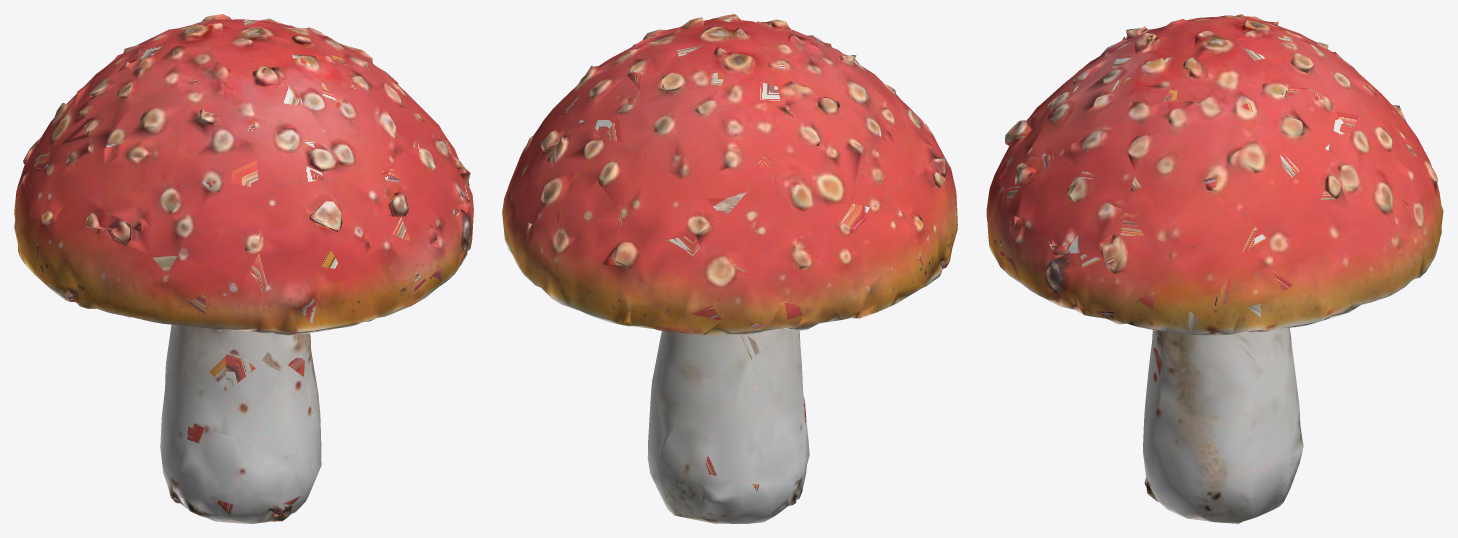
The model's file is mushroom.glb.
The picture shows the model from 3 angles, left to right: view 1: azimuth 30°, elevation 25°; view 2: azimuth 150°, elevation 25°; view 3: azimuth 270°, elevation 25°; orthographic projection.
Bounding box in the file's own units: 1.75 × 1.99 × 1.76.
1 material, 1 textured.
